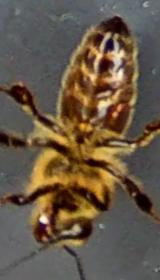varroa_mite: (98, 92, 138, 132)
